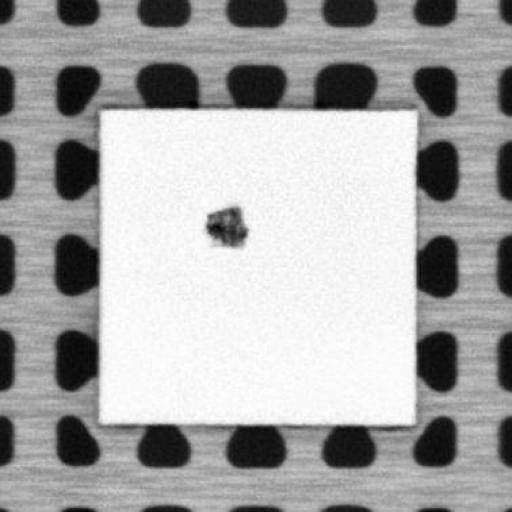DIE_INK: (200, 199, 248, 250)
